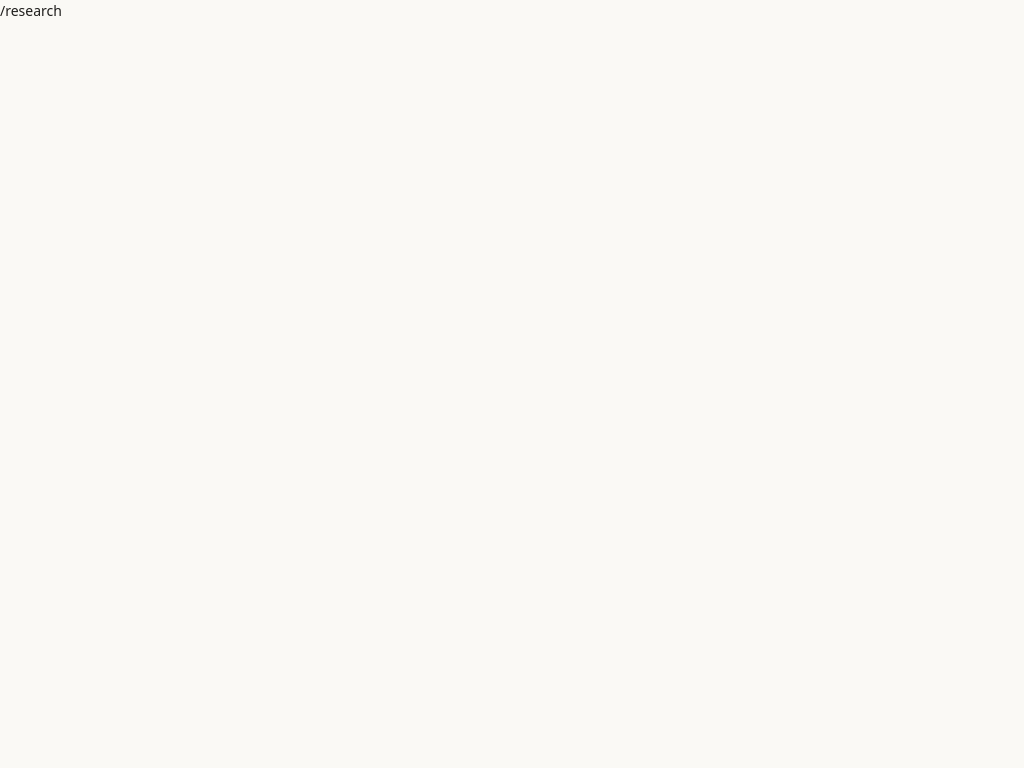
it: CommandPalette (S26A ⌘K) › shows an empty state for no matches
Press k
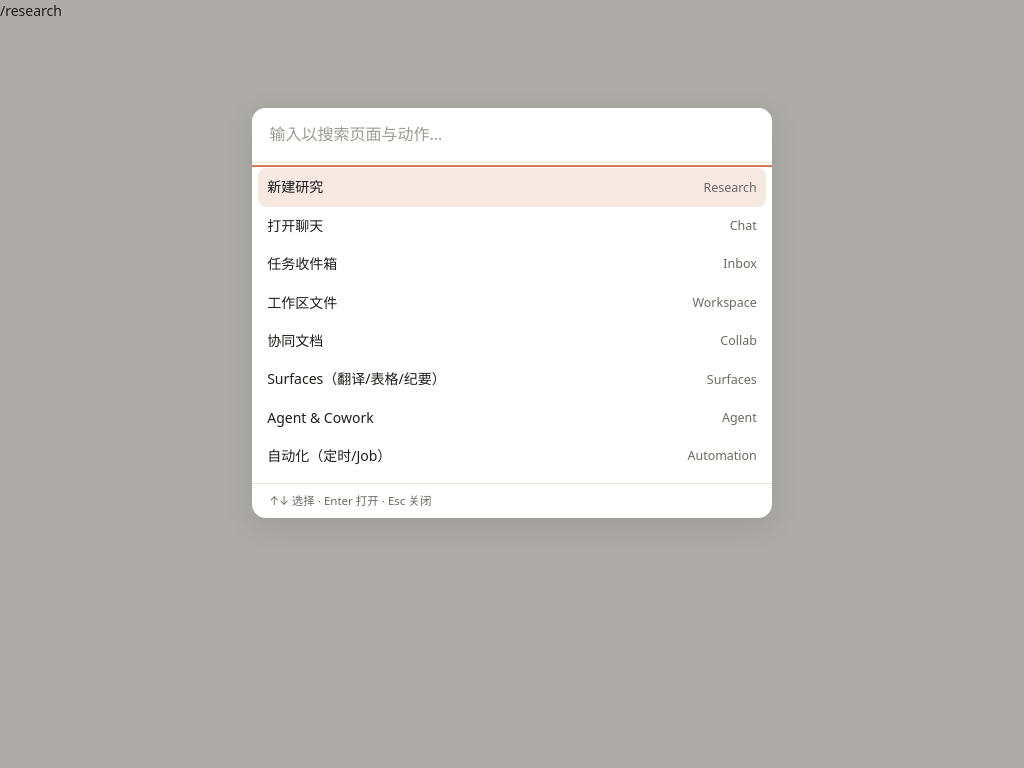
Type "zzz-nothing" into the field named "搜索命令".
click(512, 135); type("zzz-nothing")  # box [252, 108, 772, 163]
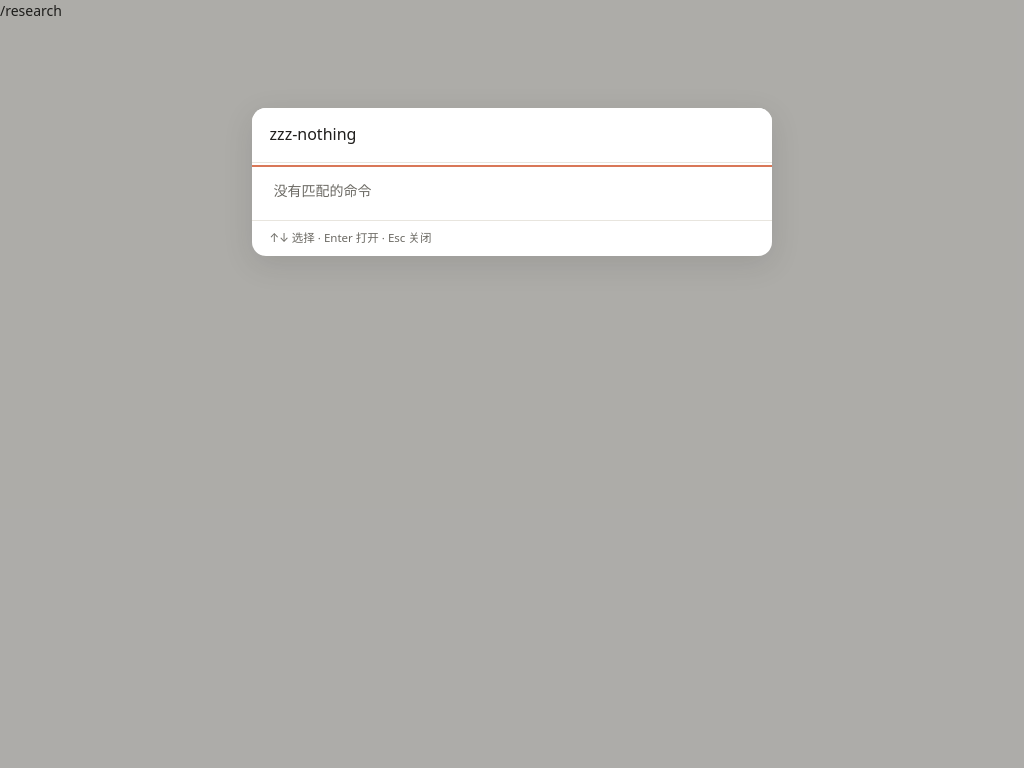
Now the text "没有匹配的命令" is shown, box [274, 182, 372, 200]
